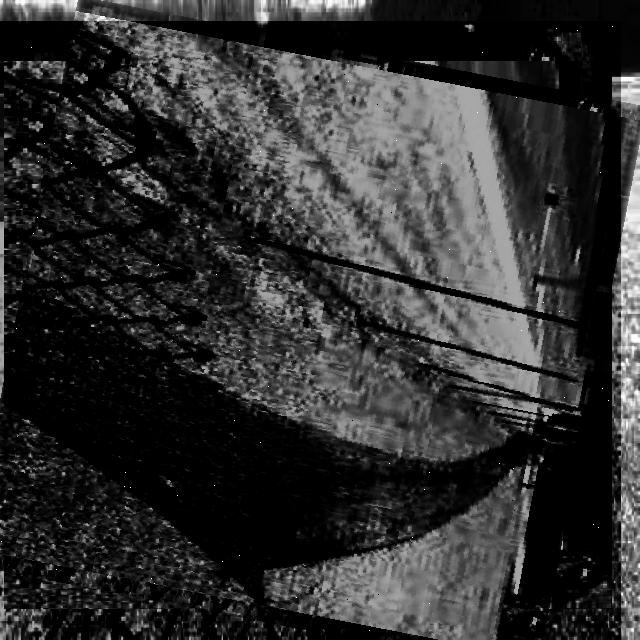anomaly-fence: (0, 21, 621, 640)
